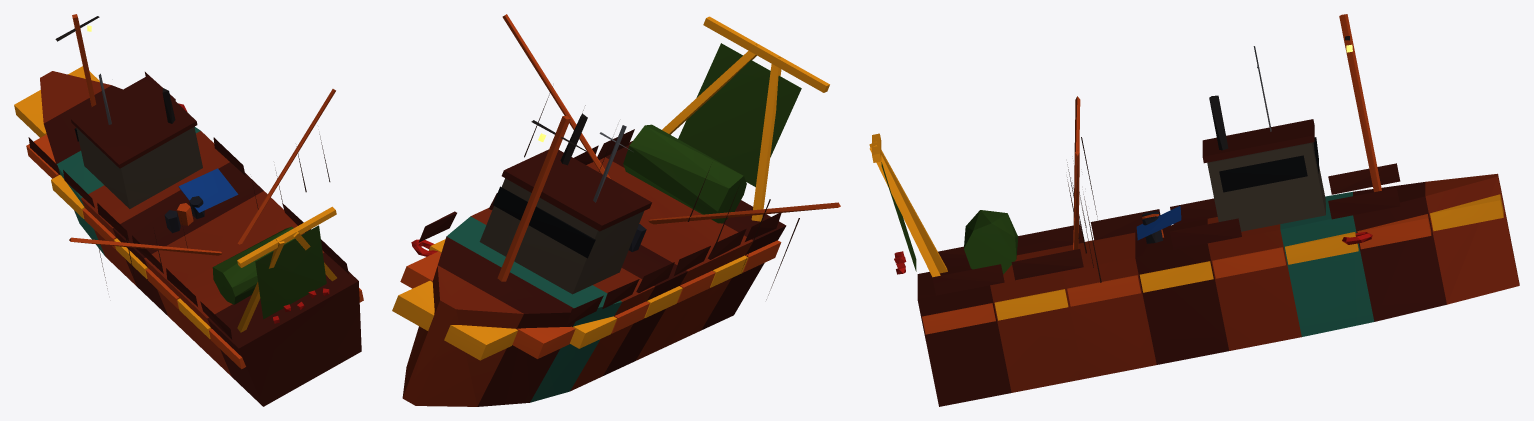
Rendered from tb_trawler_wreck.three-web-toon.lod50.glb.
3 views of the same model, side by side, from view 1: azimuth 30°, elevation 25°; view 2: azimuth 150°, elevation 25°; view 3: azimuth 270°, elevation 25° (orthographic). The views are drawn at different scales.
Visible parts, largest first — view 1: trawler_body_lod; view 2: trawler_body_lod; view 3: trawler_body_lod.
Boxes of the visible parts, left/top/right/bottom form: trawler_body_lod: left=14, top=14, right=363, bottom=406; trawler_body_lod: left=392, top=14, right=840, bottom=406; trawler_body_lod: left=869, top=14, right=1519, bottom=406.
Bounding box in the file's own units: 14.61 × 14.58 × 24.19.
